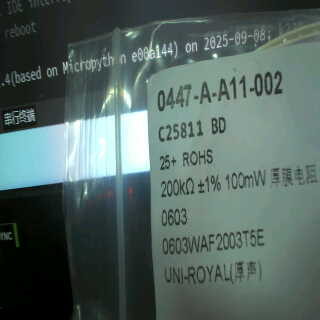200kR: (157, 175, 195, 204)
